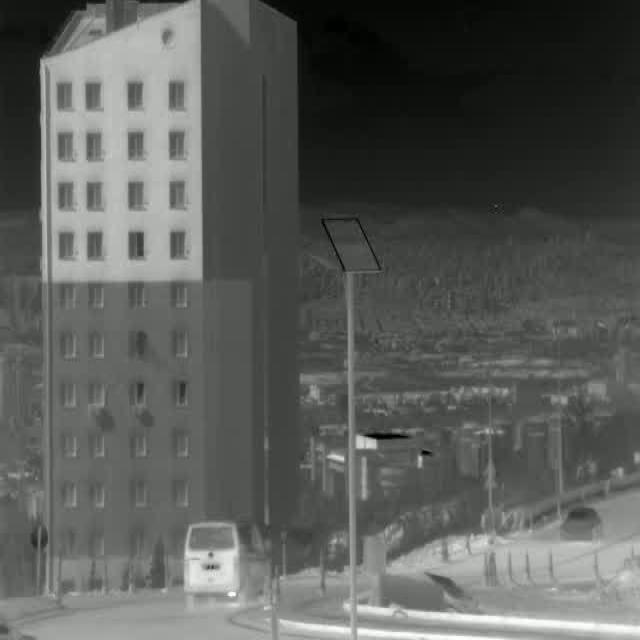Car: (182, 520, 277, 607), (559, 504, 603, 545)
